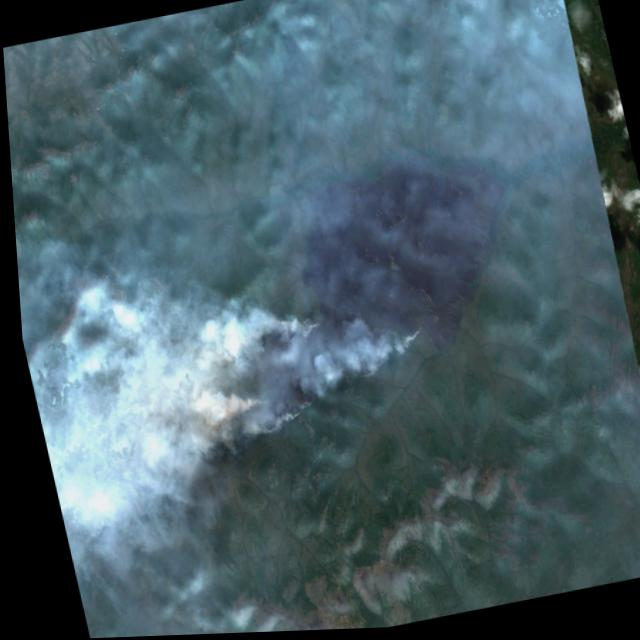fire: (208, 277, 404, 447)
